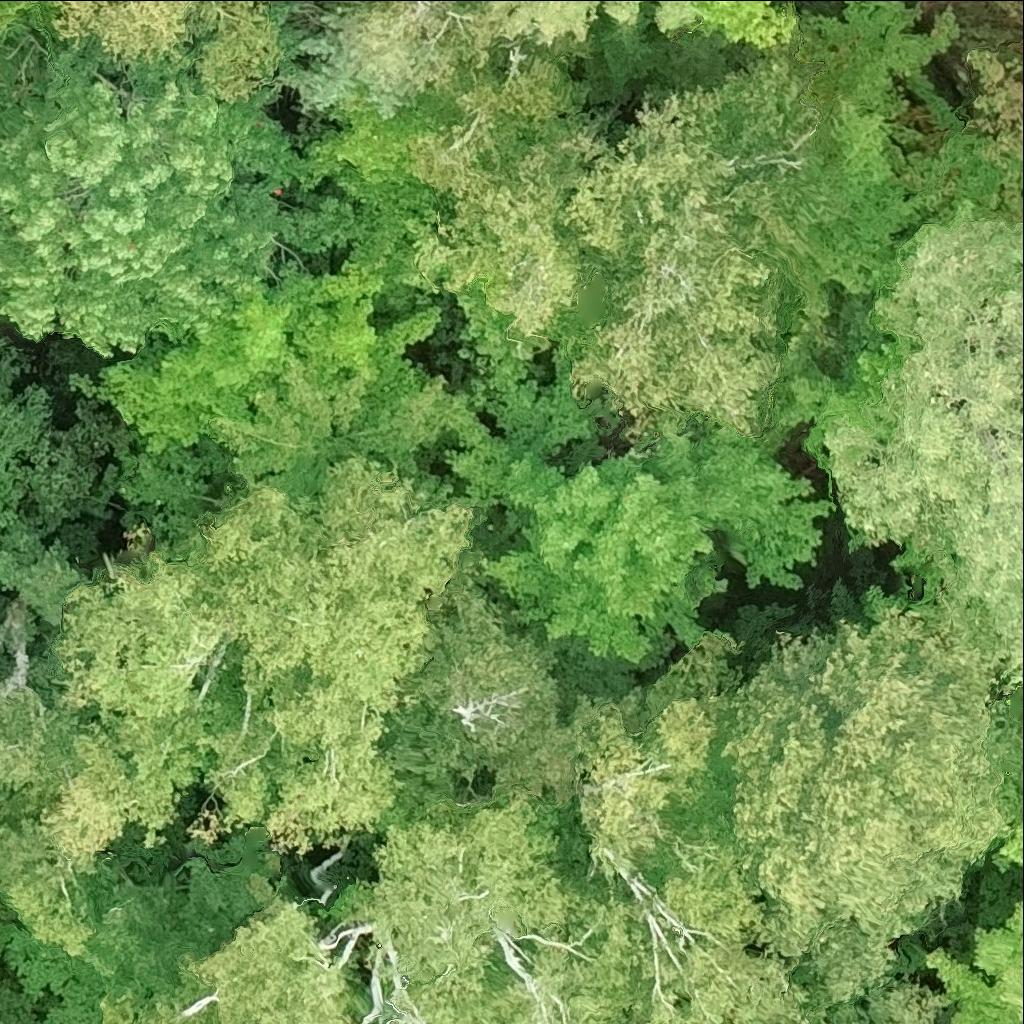crown: (0, 0, 361, 354), (570, 635, 896, 1023), (410, 417, 831, 708), (547, 58, 856, 450), (725, 607, 1016, 1000), (200, 790, 636, 1023), (327, 0, 590, 365), (829, 221, 1023, 682), (72, 262, 441, 456), (209, 456, 469, 715), (37, 555, 248, 867), (385, 581, 605, 835), (187, 640, 392, 856), (290, 85, 462, 324), (0, 684, 97, 957), (451, 297, 604, 465), (277, 8, 409, 119), (928, 899, 1023, 1023), (968, 51, 1023, 228), (54, 0, 194, 64), (198, 0, 276, 96), (101, 966, 220, 1023), (475, 0, 600, 44), (693, 0, 796, 43), (872, 982, 942, 1023), (654, 0, 695, 37), (602, 0, 639, 24), (1004, 831, 1023, 862)
